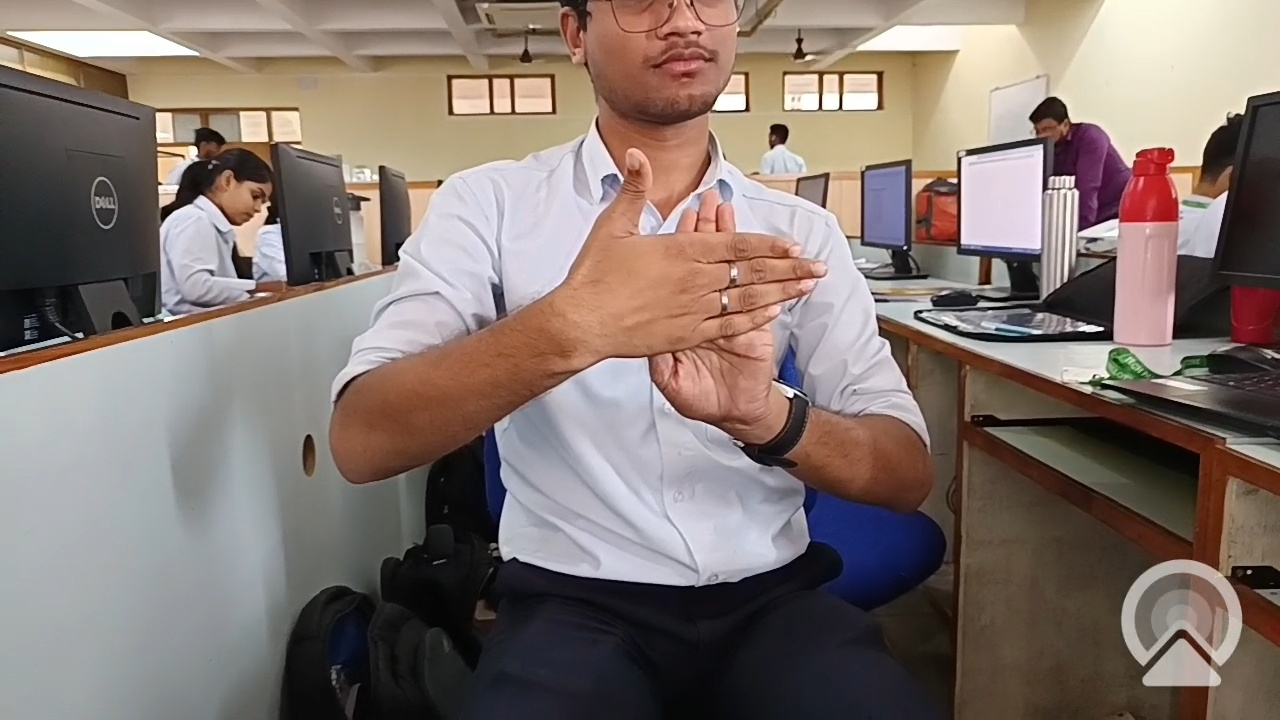W: (472, 119, 847, 455)
